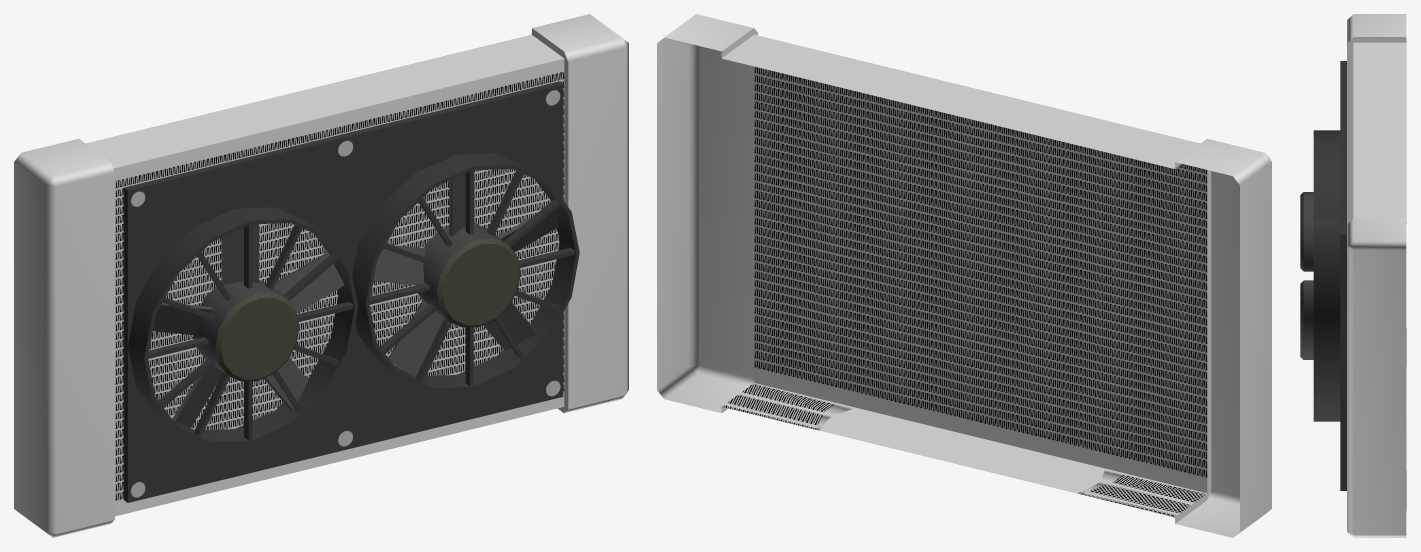
The model's file is engine_radiator.glb.
The picture shows the model from 3 angles, left to right: view 1: azimuth 30°, elevation 25°; view 2: azimuth 150°, elevation 25°; view 3: azimuth 270°, elevation 25°; orthographic projection. The views are drawn at different scales.
Visible parts, largest first — view 1: Object_2; view 2: Object_2; view 3: Object_2.
Boxes of the visible parts, x1,y1,x2,y2 form: Object_2: [14, 14, 628, 537]; Object_2: [657, 14, 1271, 537]; Object_2: [1300, 14, 1406, 537].
Bounding box in the file's own units: 823 × 488 × 159.
Materials: 1 (1 with a texture image).
